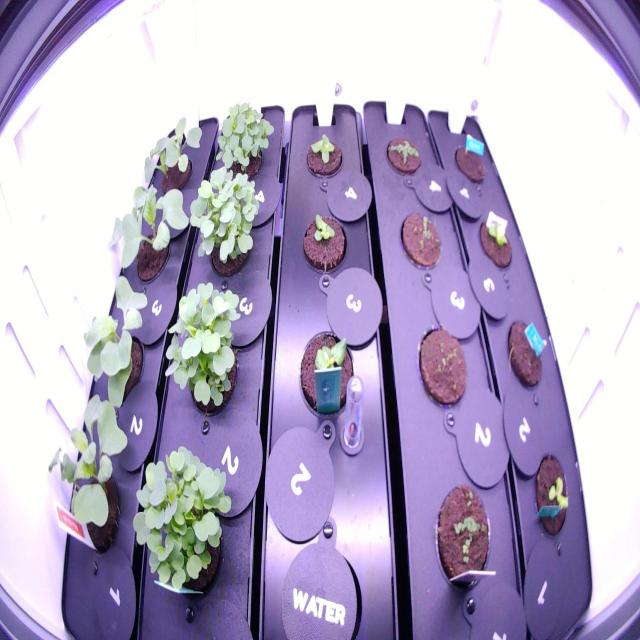germination: (429, 474, 495, 596), (411, 314, 471, 421), (392, 204, 446, 276), (380, 132, 425, 183)
pod: (500, 313, 546, 395), (449, 135, 488, 189)
young: (292, 320, 361, 420), (528, 446, 577, 547), (296, 208, 351, 280), (300, 123, 349, 190), (474, 212, 516, 277)
